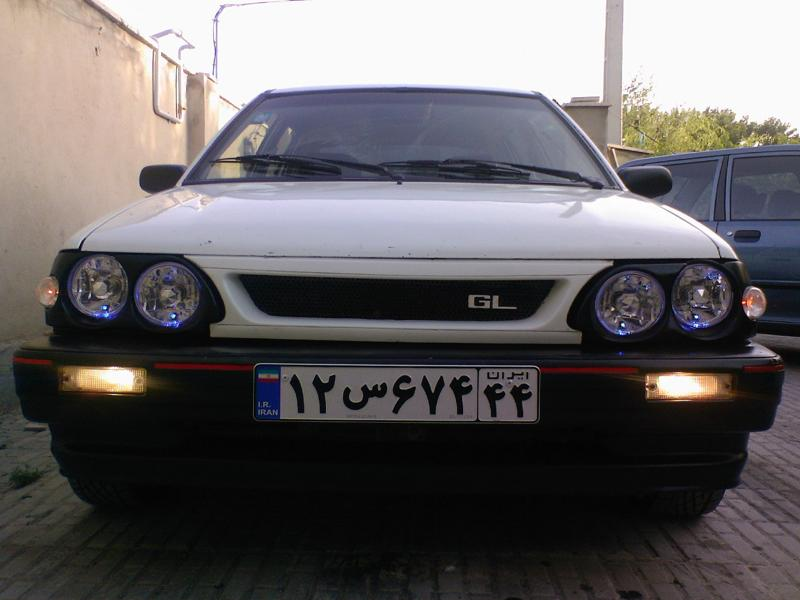Plate: (253, 364, 537, 423)
